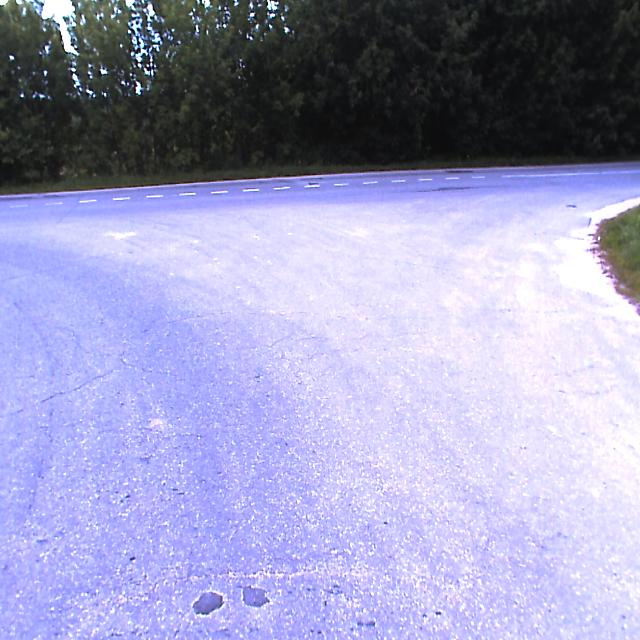road: (0, 160, 639, 639)
